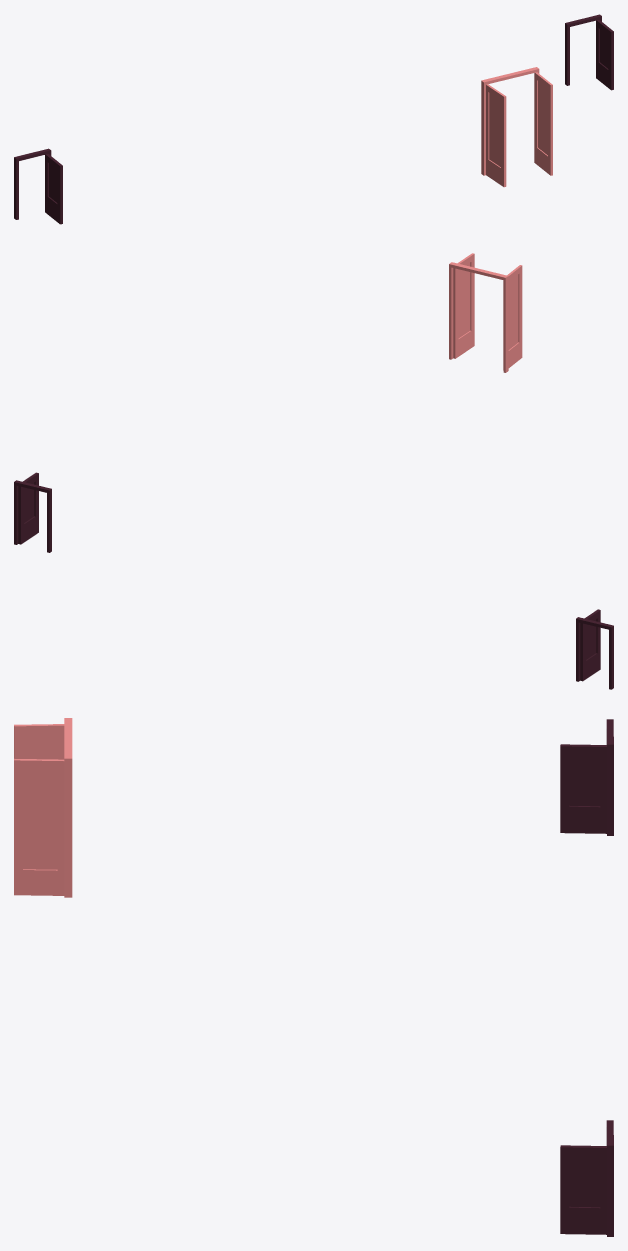
The model's file is doors.FBX.
3 renders of one model, top to bottom at view 1: azimuth 30°, elevation 25°; view 2: azimuth 150°, elevation 25°; view 3: azimuth 270°, elevation 25°, orthographic. The views are drawn at different scales.
Parts seen in each view (by area): view 1: PivotDoor01, PivotDoor02, PivotDoor03; view 2: PivotDoor01, PivotDoor03, PivotDoor02; view 3: PivotDoor01, PivotDoor02, PivotDoor03.
Part boxes in pixels (<box>): PivotDoor01: <box>481,67,552,187</box>; PivotDoor02: <box>565,14,613,90</box>; PivotDoor03: <box>14,148,62,224</box>; PivotDoor01: <box>449,253,522,372</box>; PivotDoor03: <box>576,609,613,689</box>; PivotDoor02: <box>14,472,51,552</box>; PivotDoor01: <box>14,718,72,897</box>; PivotDoor02: <box>560,1120,613,1236</box>; PivotDoor03: <box>560,719,613,835</box>.
Size of the model in its own units: 450 by 148 by 268.
